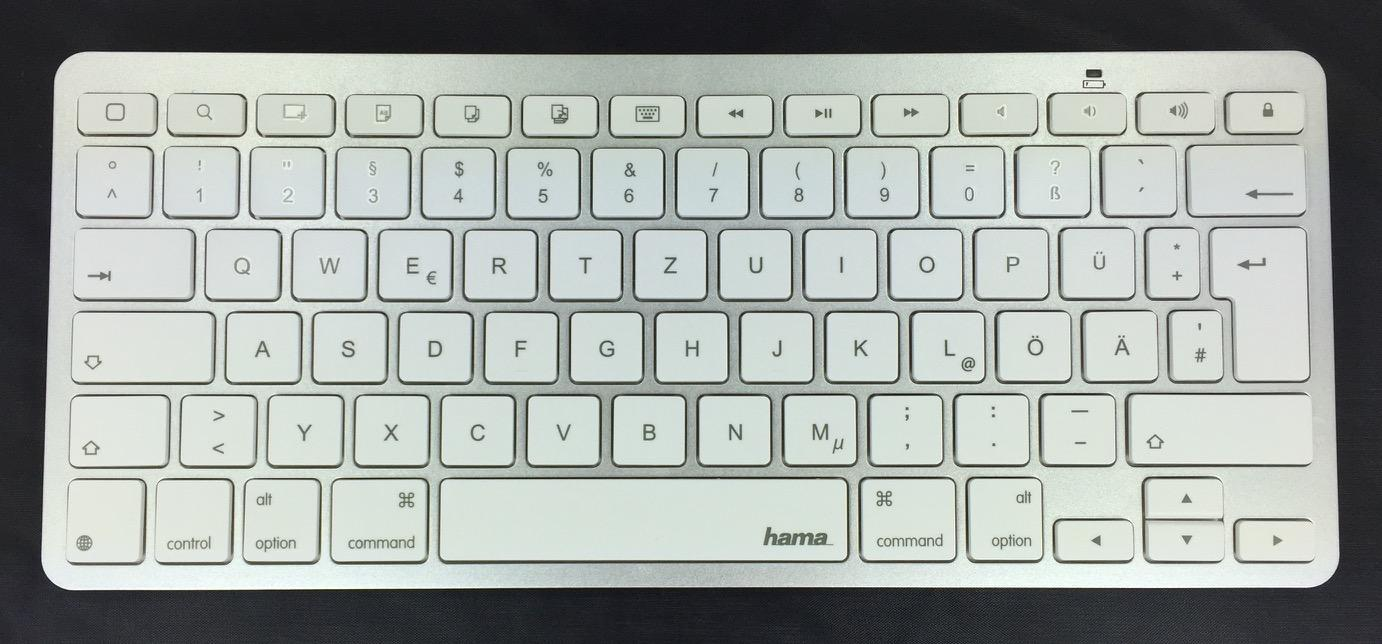0: (927, 140, 1006, 216)
1: (160, 141, 238, 215)
2: (247, 141, 325, 217)
3: (333, 142, 411, 217)
4: (419, 141, 496, 217)
5: (504, 142, 581, 217)
6: (589, 142, 665, 217)
7: (673, 142, 749, 217)
8: (757, 142, 835, 217)
9: (843, 141, 920, 217)
a: (222, 307, 301, 383)
accent: (1098, 139, 1175, 214)
ae: (1079, 304, 1158, 381)
alt-left: (238, 472, 321, 564)
altgr-right: (963, 471, 1044, 563)
b: (608, 389, 687, 465)
c: (436, 390, 516, 466)
caret: (72, 141, 151, 215)
comma: (864, 387, 943, 462)
d: (394, 307, 473, 383)
del: (1184, 137, 1307, 214)
e: (374, 224, 453, 300)
enter: (1206, 221, 1308, 382)
f: (481, 307, 558, 381)
g: (565, 307, 643, 382)
h: (651, 307, 728, 382)
hash: (1165, 303, 1223, 380)
i: (801, 224, 877, 297)
j: (737, 306, 813, 381)
k: (822, 306, 899, 381)
keyboard: (42, 41, 1340, 587)
l: (907, 306, 986, 382)
less: (177, 389, 257, 465)
m: (777, 388, 857, 465)
minus: (1035, 388, 1115, 463)
n: (693, 390, 772, 465)
o: (885, 224, 964, 298)
oe: (992, 306, 1072, 381)
p: (971, 223, 1048, 298)
plus: (1142, 221, 1199, 298)
point: (950, 388, 1030, 463)
q: (201, 224, 281, 300)
r: (460, 225, 537, 300)
s: (308, 307, 388, 383)
shift-left: (65, 388, 169, 466)
shift-lock: (67, 304, 214, 382)
shift-right: (1122, 386, 1314, 465)
space: (434, 470, 848, 562)
ss: (1013, 140, 1090, 215)
strg-left: (149, 471, 235, 564)
t: (546, 224, 621, 299)
tab: (70, 221, 193, 298)
u: (715, 224, 792, 299)
ue: (1056, 221, 1135, 298)
v: (522, 389, 601, 465)
w: (289, 223, 367, 299)
x: (351, 390, 430, 466)
y: (264, 390, 343, 466)
z: (630, 224, 707, 299)
